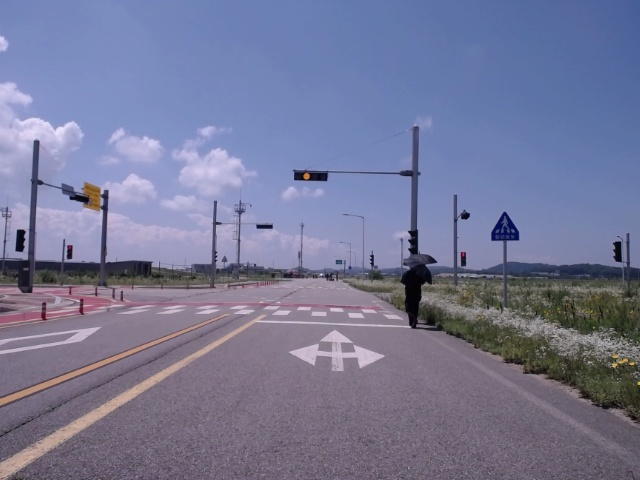orange_4: (293, 170, 329, 181)
